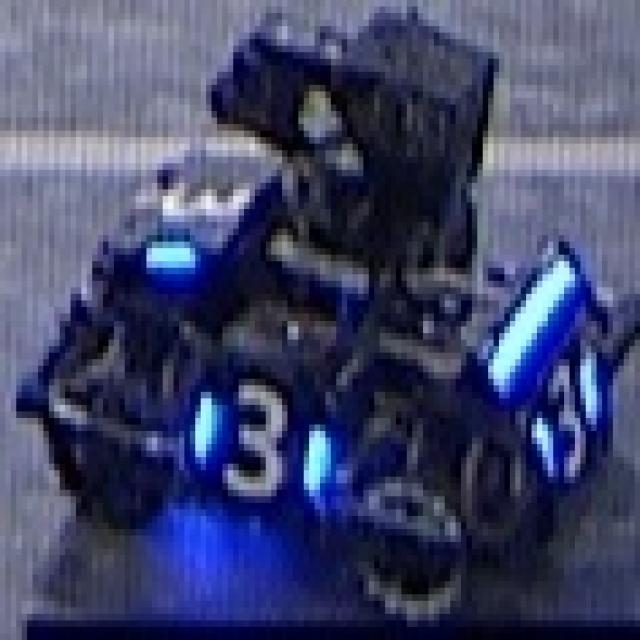B3: (179, 366, 342, 522), (138, 140, 263, 284), (532, 333, 618, 483)
